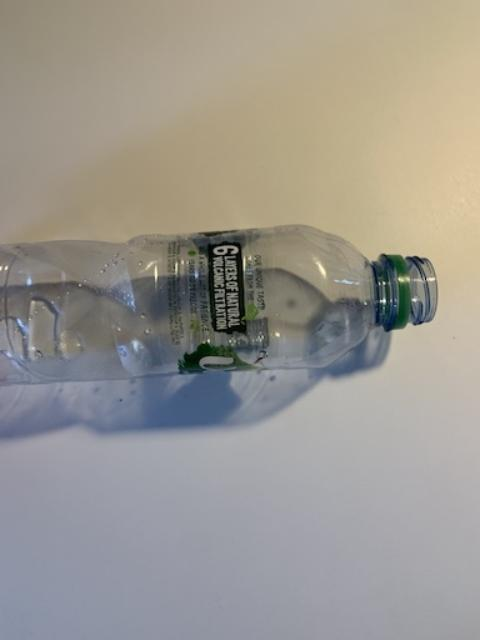plastic: (0, 224, 435, 380)
